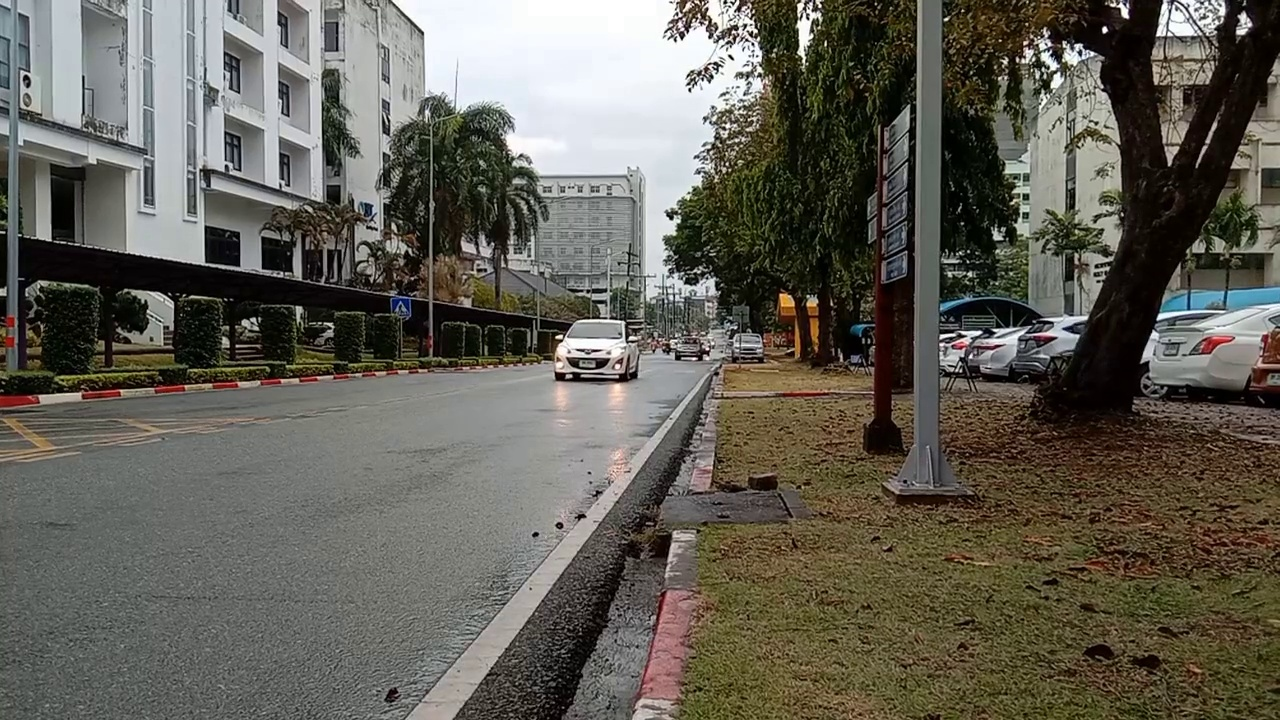License Plate: (576, 357, 595, 369)
